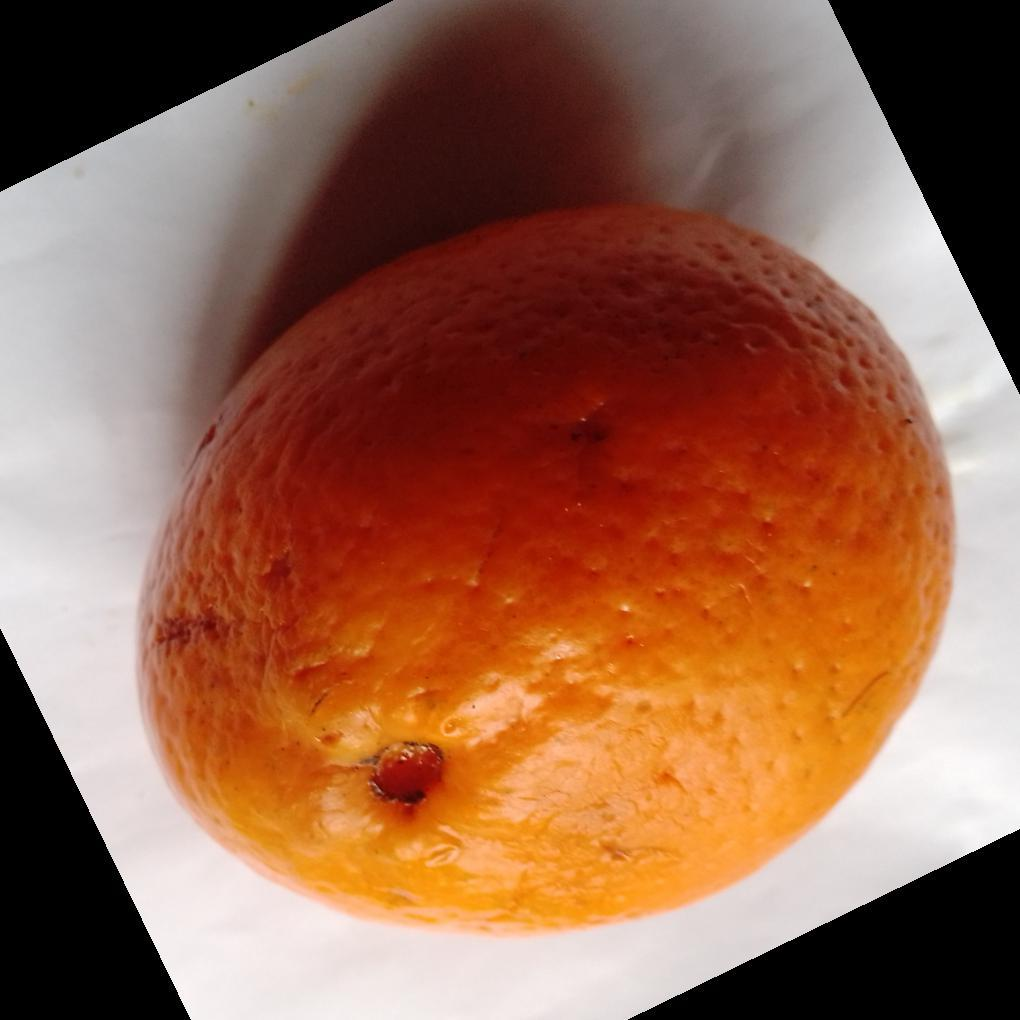FreshOrange: (133, 202, 957, 940)
